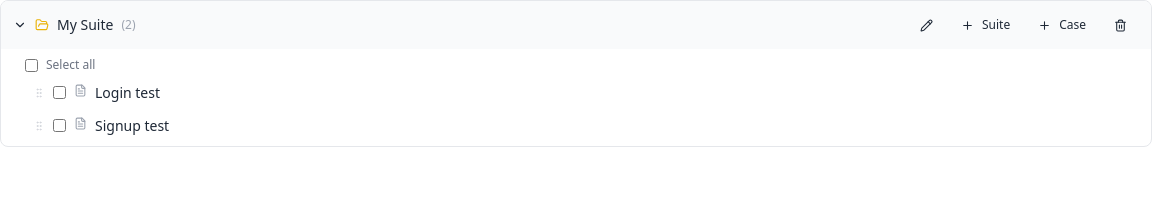
Test: CaseList — Select all › deselects all when clicking Select all a second time, hiding the bulk bar
Click the checkbox labelled "Select all" at (32, 65), box [25,58,38,72]
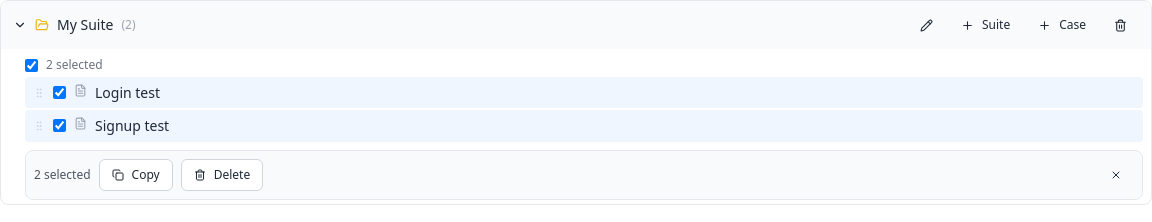
Expected: the button "Delete" is shown, [181,158,263,190]
Note: Click again to deselect
Click the checkbox labelled "2 selected" at (32, 65), box [25,58,38,72]
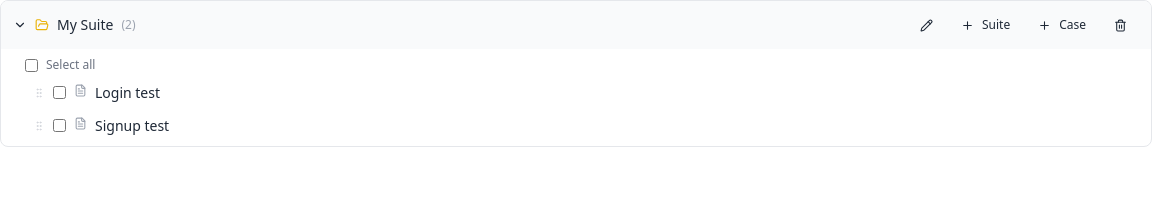
Expected: the button "Delete" is gone
